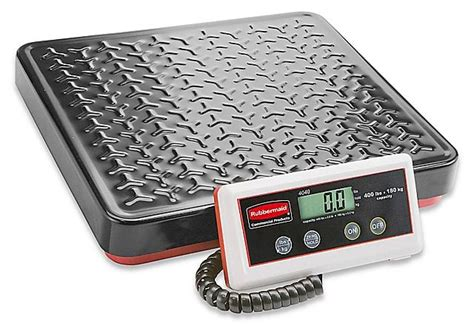Industrial Scale: (14, 10, 460, 311)
